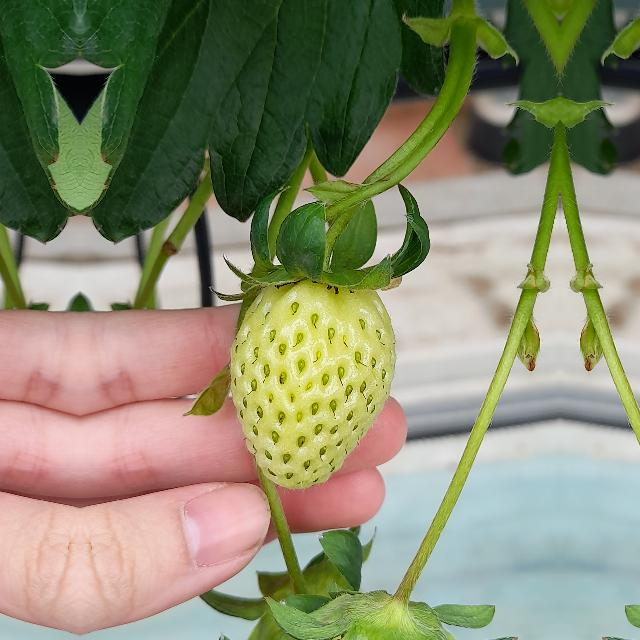Health_25: (230, 280, 396, 488)
